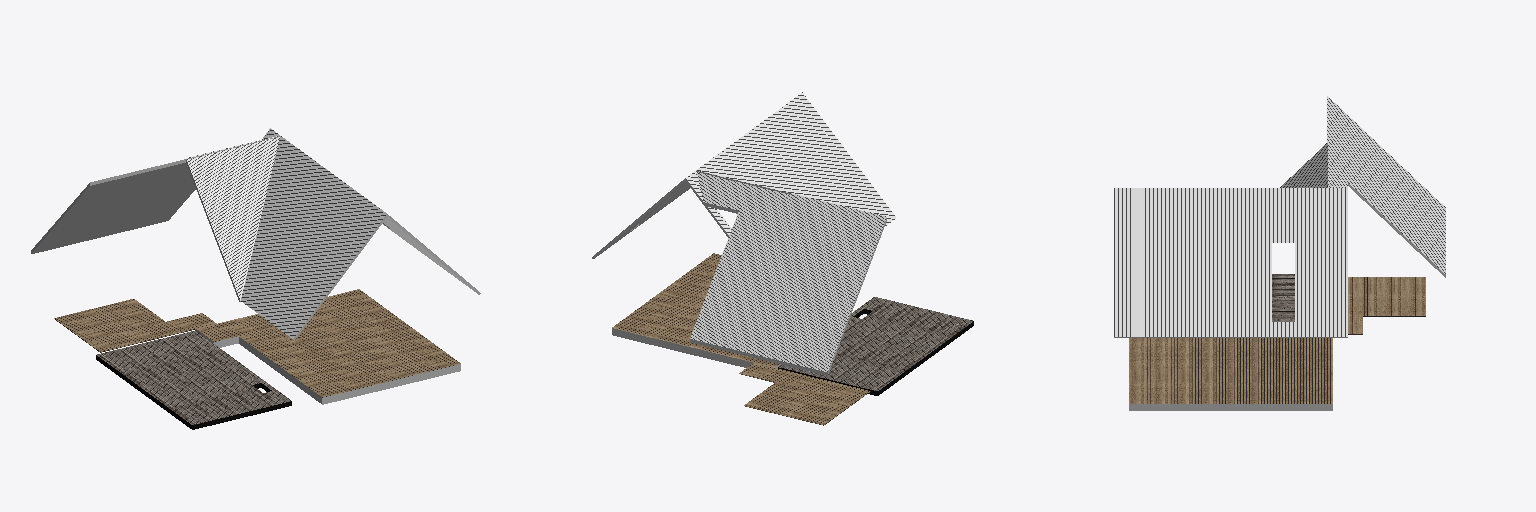
3 views of the same model, side by side, from view 1: azimuth 30°, elevation 25°; view 2: azimuth 150°, elevation 25°; view 3: azimuth 270°, elevation 25° (orthographic).
Parts seen in each view (by area): view 1: UNITY_Taule_4"_90deg, UNITY_Plafond_Planche_Cedre, UNITY_Gris, UNITY_Plancher_Bois_Gris_90deg, UNITY_Aluminex_Frame; view 2: UNITY_Taule_4"_90deg, UNITY_Plafond_Planche_Cedre, UNITY_Plancher_Bois_Gris_90deg, UNITY_Gris, UNITY_Aluminex_Frame; view 3: UNITY_Taule_4"_90deg, UNITY_Plafond_Planche_Cedre, UNITY_Gris, UNITY_Plancher_Bois_Gris_90deg.
Boxes of the visible parts, x1,y1,x2,y2 form: UNITY_Taule_4"_90deg: [186, 128, 386, 338]; UNITY_Plafond_Planche_Cedre: [54, 289, 460, 397]; UNITY_Gris: [31, 136, 480, 404]; UNITY_Plancher_Bois_Gris_90deg: [97, 330, 290, 424]; UNITY_Aluminex_Frame: [96, 355, 291, 429]; UNITY_Taule_4"_90deg: [686, 92, 895, 371]; UNITY_Plafond_Planche_Cedre: [612, 253, 870, 425]; UNITY_Plancher_Bois_Gris_90deg: [779, 297, 972, 390]; UNITY_Gris: [592, 171, 886, 375]; UNITY_Aluminex_Frame: [778, 309, 973, 395]; UNITY_Taule_4"_90deg: [1114, 96, 1445, 336]; UNITY_Plafond_Planche_Cedre: [1129, 277, 1425, 403]; UNITY_Gris: [1114, 183, 1445, 410]; UNITY_Plancher_Bois_Gris_90deg: [1272, 274, 1294, 321].
Bounding box in the file's own units: 41.1 × 25.2 × 41.37.
6 materials, 3 textured.